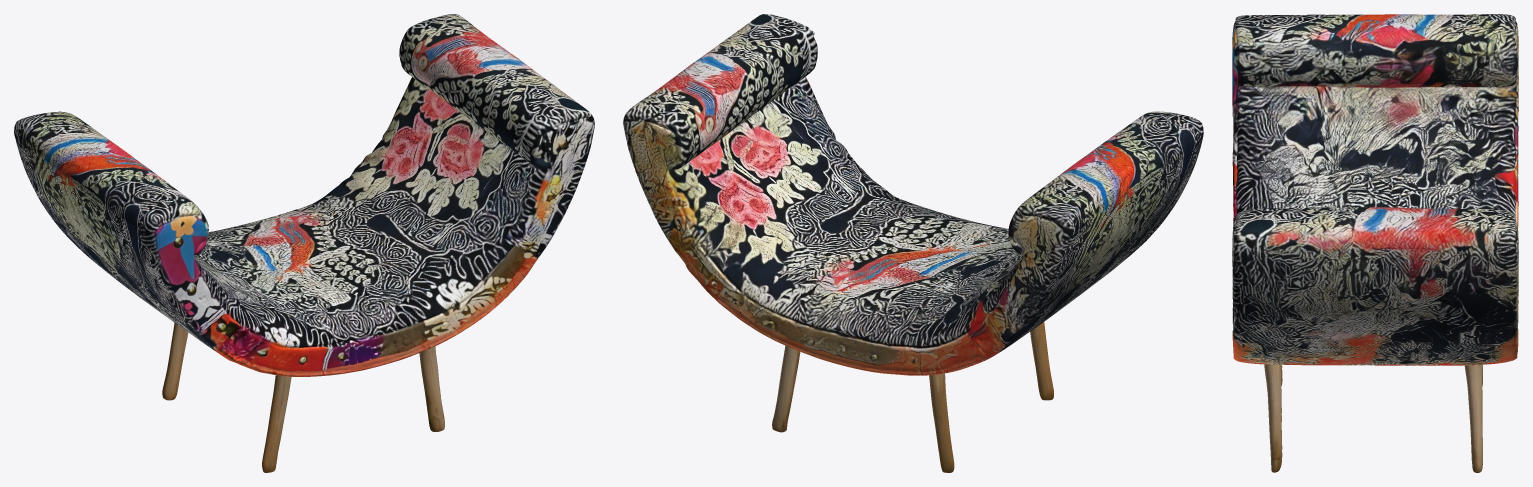
3 views of the same model, side by side, from view 1: azimuth 30°, elevation 25°; view 2: azimuth 150°, elevation 25°; view 3: azimuth 270°, elevation 25° (orthographic). The views are drawn at different scales.
Parts seen in each view (by area): view 1: model; view 2: model; view 3: model.
Boxes of the visible parts, x1,y1,x2,y2 form: model: (14,14,594,472); model: (623,14,1203,472); model: (1232,14,1518,472).
Bounding box in the file's own units: 1.11 × 0.72 × 0.6026.
Materials: 1 (1 with a texture image).
